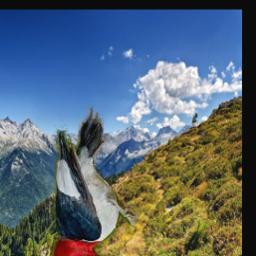Woodpecker: (46, 107, 141, 256)
